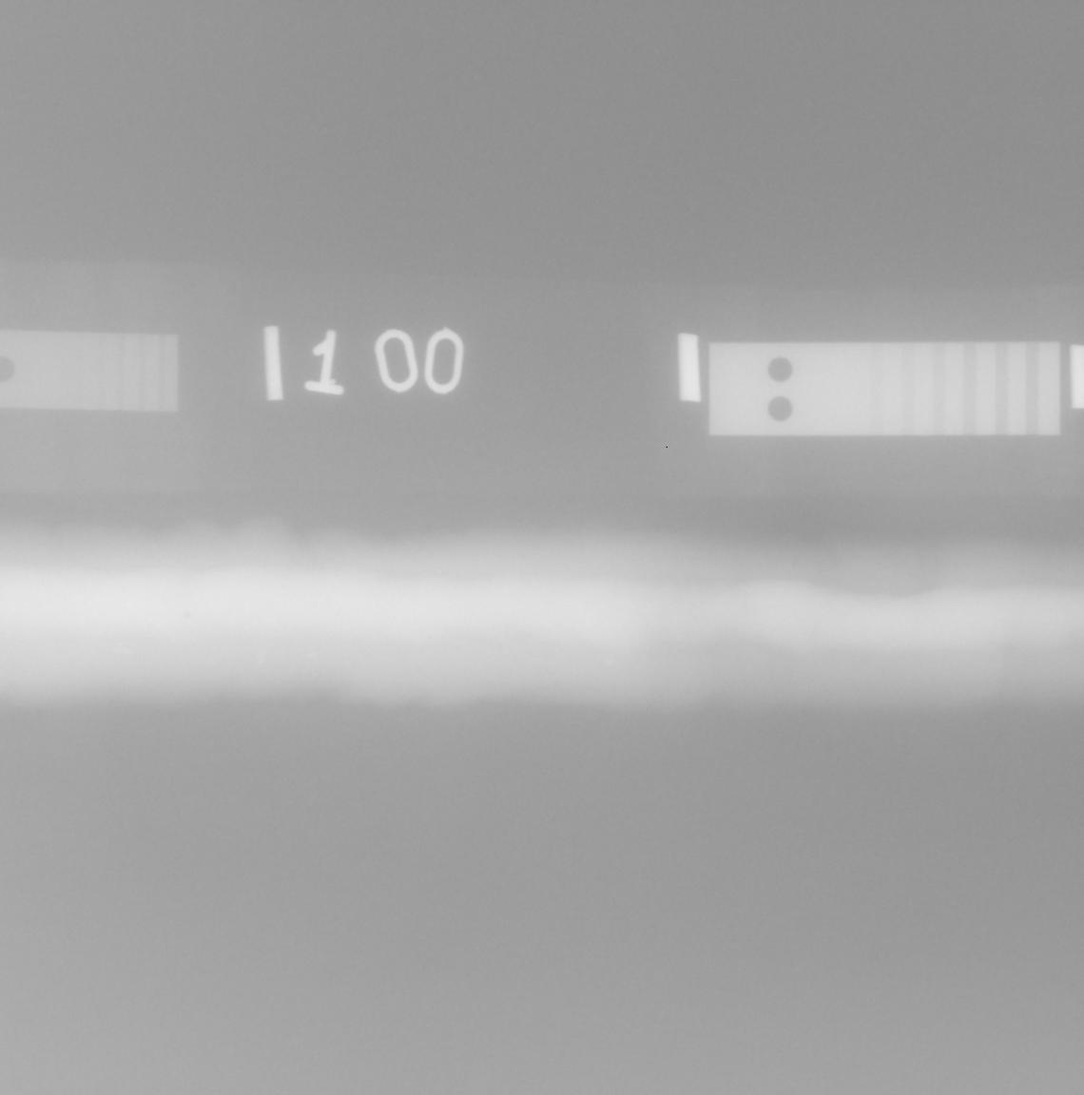Pore/Porosity: (184, 612, 191, 619)
Reference Standard 2: (708, 341, 1060, 436)
